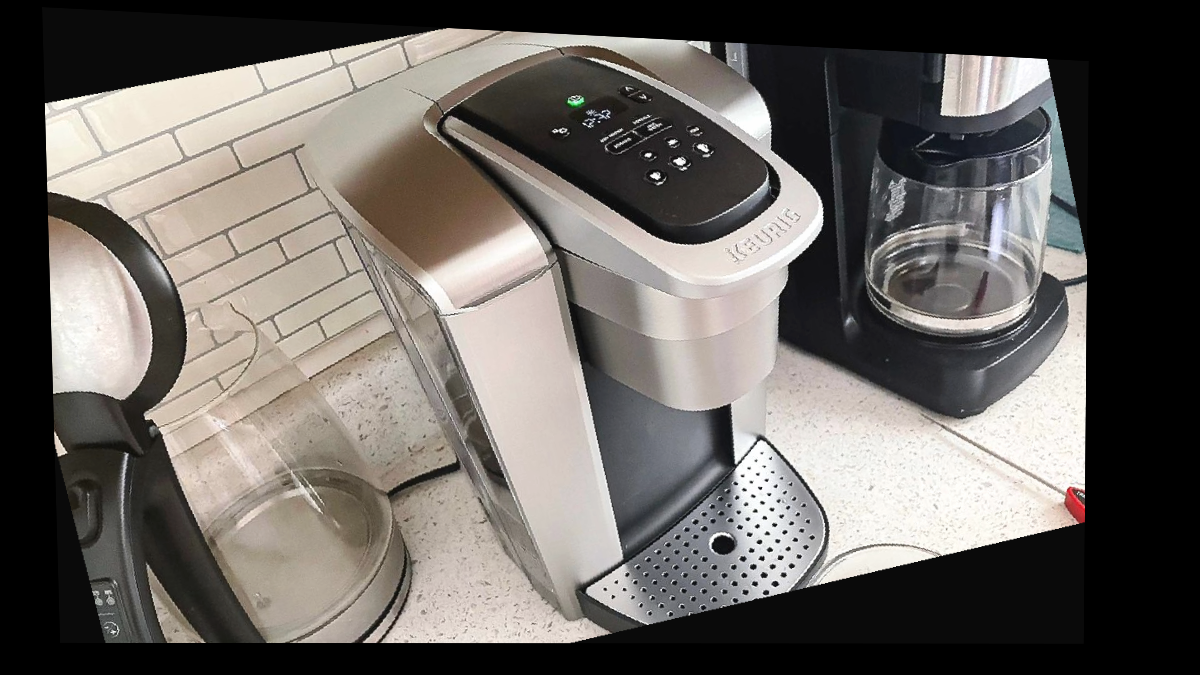10oz: (668, 154, 691, 172)
12oz: (692, 140, 716, 157)
4oz: (639, 149, 657, 161)
6oz: (663, 135, 683, 149)
8oz: (645, 168, 667, 186)
add_water: (591, 114, 632, 149)
coffee_handle: (728, 200, 844, 303)
descale: (626, 93, 667, 128)
hot: (635, 107, 676, 142)
iced: (685, 122, 705, 137)
platform: (698, 519, 747, 568)
power: (566, 93, 587, 106)
strong: (601, 127, 643, 162)
water_handle: (440, 254, 559, 329)
